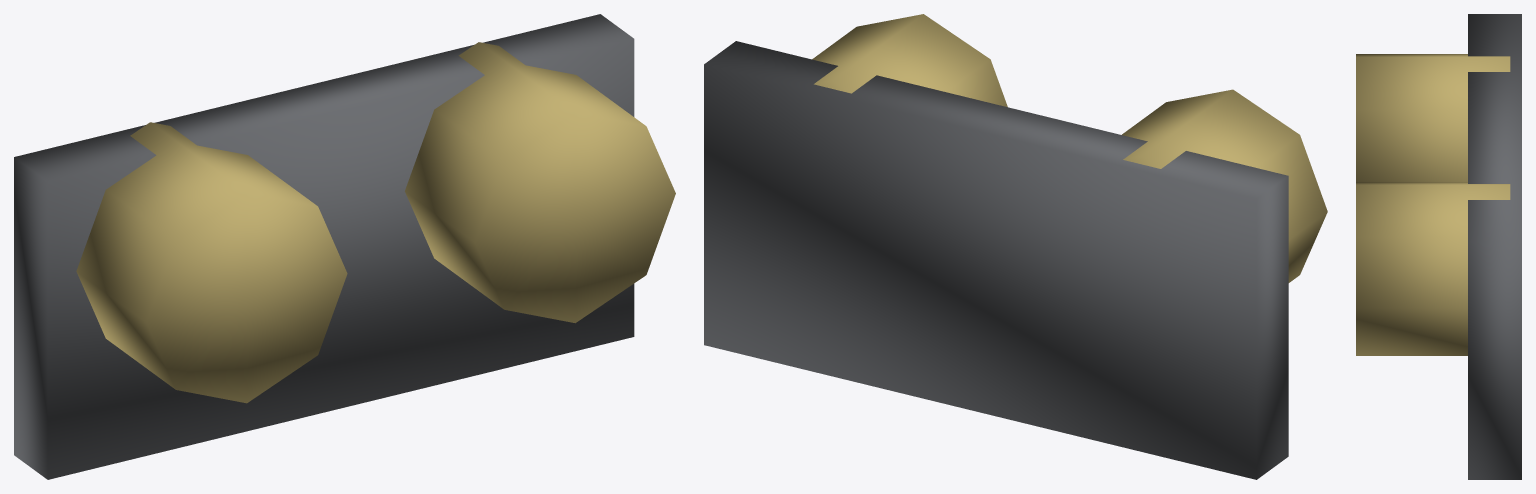
The model's file is emergency_light_pair_02.glb.
The picture shows the model from 3 angles, left to right: view 1: azimuth 30°, elevation 25°; view 2: azimuth 150°, elevation 25°; view 3: azimuth 270°, elevation 25°; orthographic projection. The views are drawn at different scales.
Visible parts, largest first — view 1: world; view 2: world; view 3: world.
Part boxes in pixels (x1,y1,x2,y2): world: [14, 14, 675, 479]; world: [704, 14, 1327, 479]; world: [1356, 14, 1521, 479].
Bounding box in the file's own units: 0.35 × 0.175 × 0.1075.
